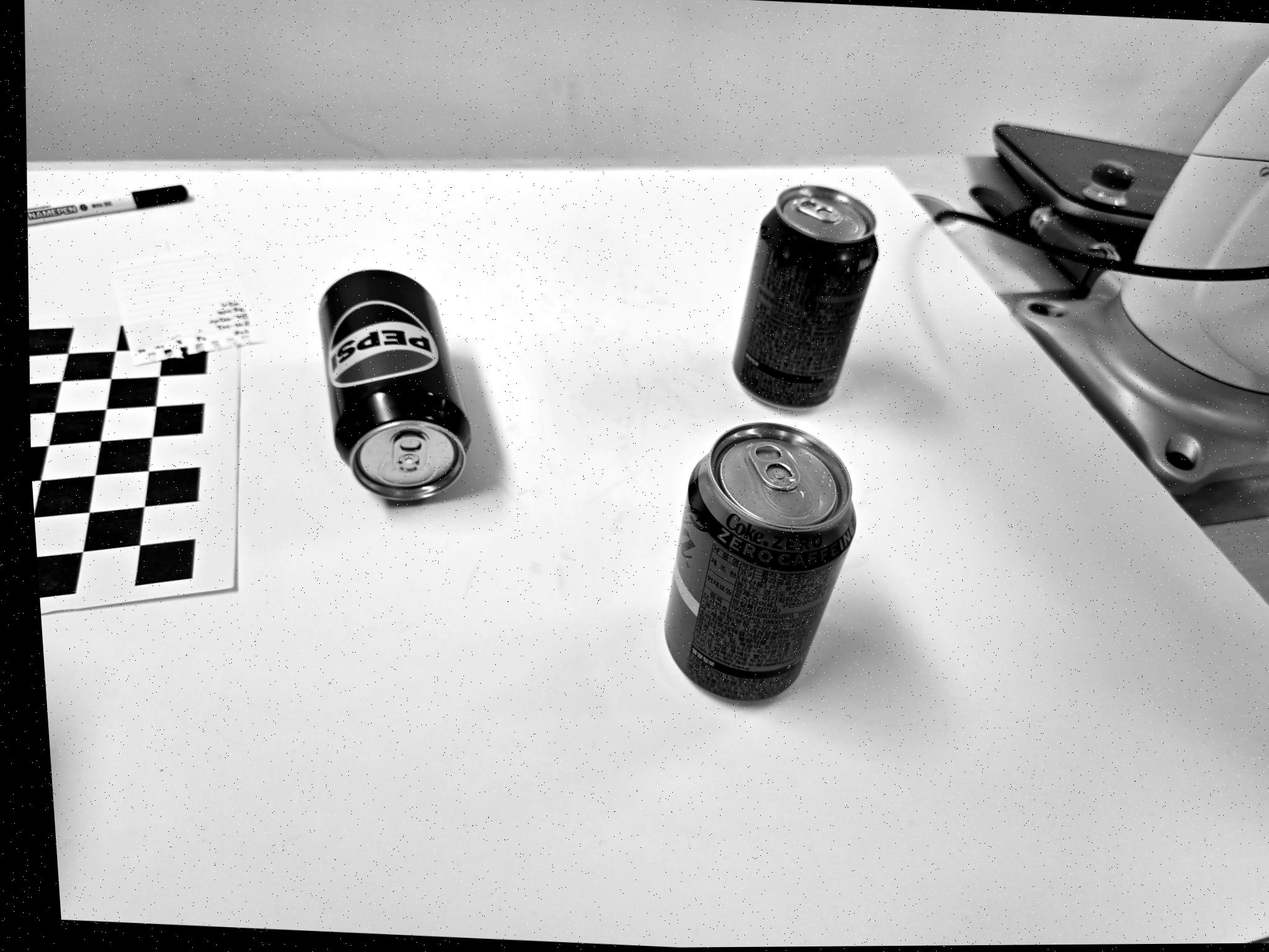can_coke_decaf: (663, 426, 858, 700)
can_coke_zero: (731, 185, 882, 407)
can_pepsi: (318, 272, 470, 498)
